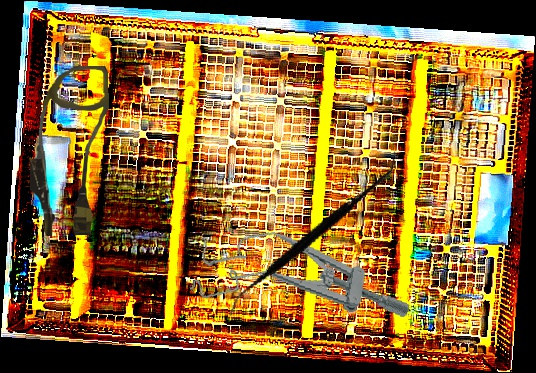Cannula: (28, 65, 111, 237)
Spatula Surgical: (227, 118, 398, 349)
Speculum: (187, 219, 419, 334)
